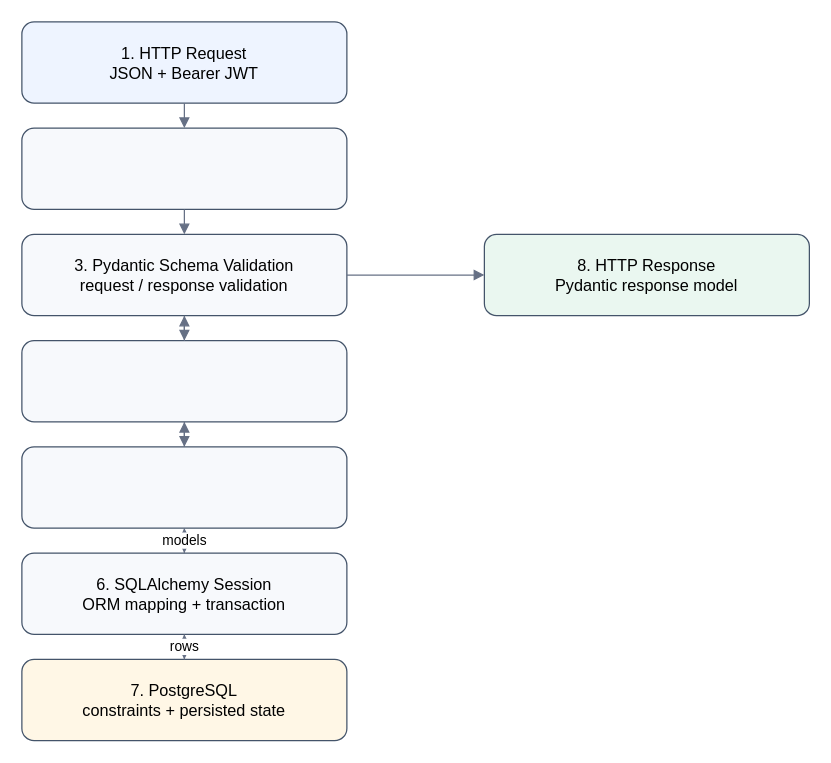
Some shapes in this 831 by 763 pixel diagram are drawn without their labels. Here are the shapes that lost their labels. From the top down, the centre of each, then its label:
At point 184,168: "2. FastAPI Router HTTP concerns".
At point 184,380: "4. Service Layer authorization + business rules".
At point 184,487: "5. Repository Layer query intent".
